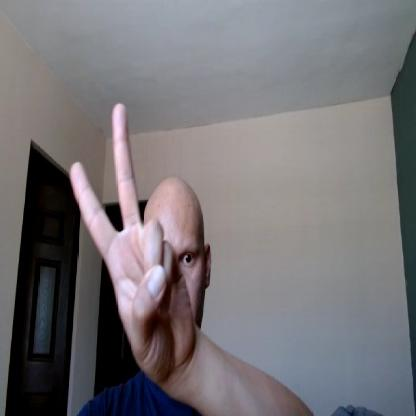V: (69, 103, 196, 390)
